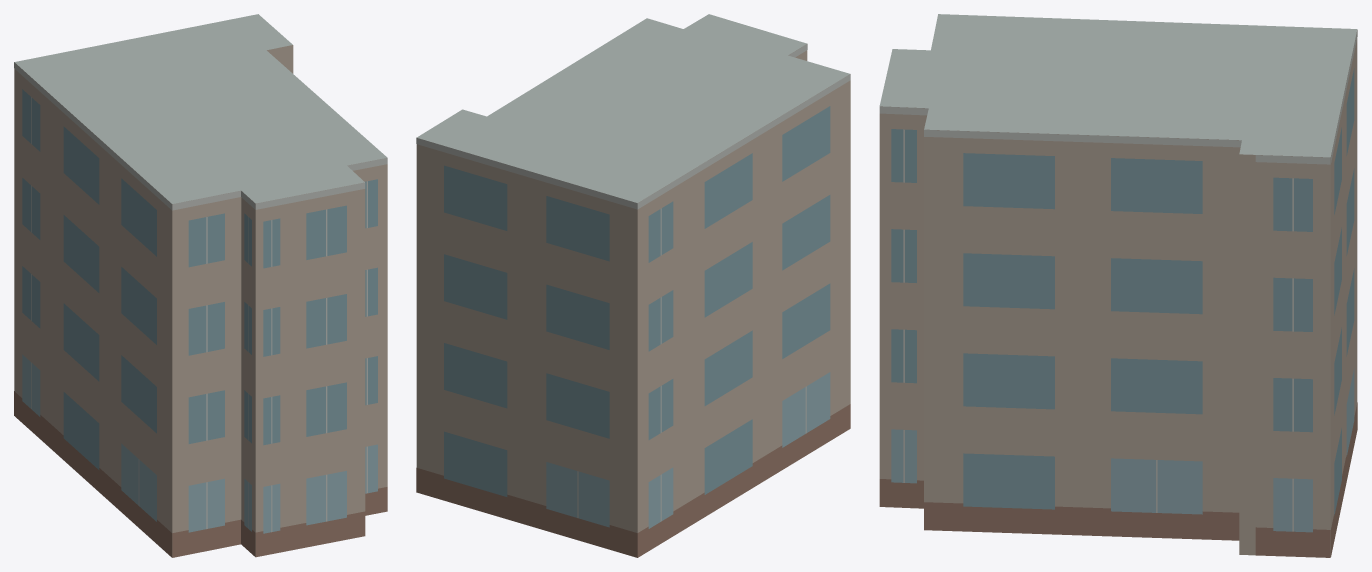
Rendered from survey-upis-33006994.glb.
3 views of the same model, side by side, from view 1: azimuth 30°, elevation 25°; view 2: azimuth 150°, elevation 25°; view 3: azimuth 270°, elevation 25° (orthographic). The views are drawn at different scales.
Visible parts, largest first — view 1: survey-upis-33006994.tmp; view 2: survey-upis-33006994.tmp; view 3: survey-upis-33006994.tmp.
Boxes of the visible parts, <box> form: survey-upis-33006994.tmp: <box>14,14,387,557</box>; survey-upis-33006994.tmp: <box>416,14,850,557</box>; survey-upis-33006994.tmp: <box>879,14,1357,557</box>.
Bounding box in the file's own units: 10.37 × 13.5 × 14.61.
